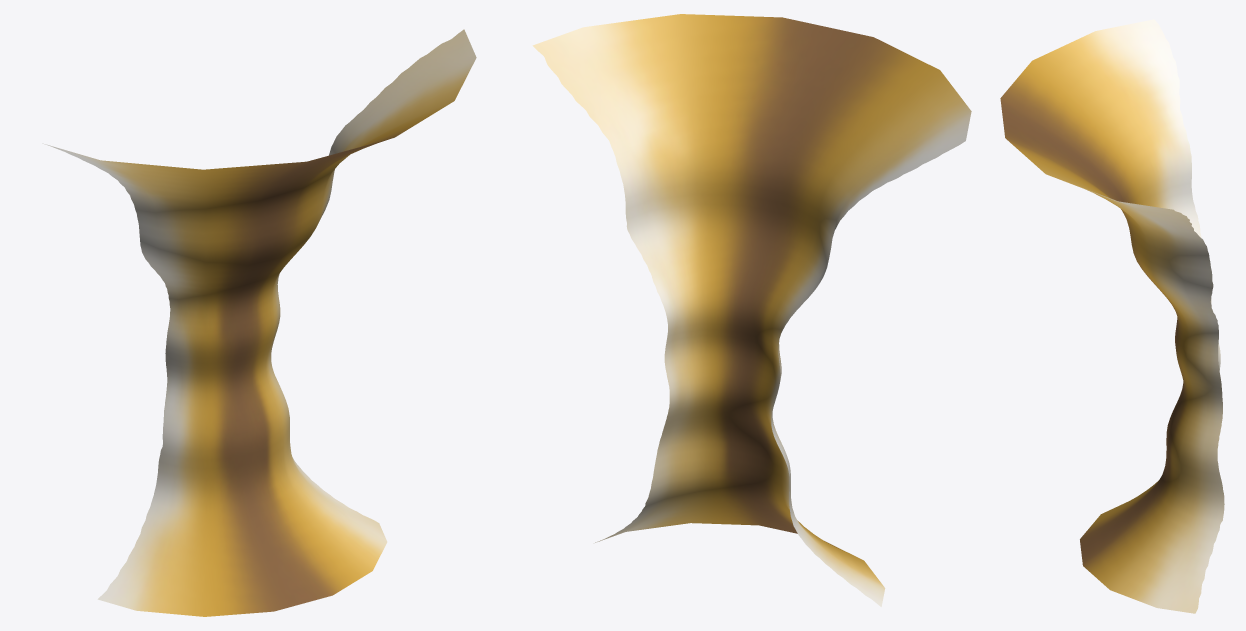
File: longjf_plane01.FBX
3 renders of one model, left to right at view 1: azimuth 30°, elevation 25°; view 2: azimuth 150°, elevation 25°; view 3: azimuth 270°, elevation 25°, orthographic. The views are drawn at different scales.
Visible parts, largest first — view 1: longjf_plane01; view 2: longjf_plane01; view 3: longjf_plane01.
Part boxes in pixels (box(x1,y1,x2,y2)): longjf_plane01: box(42, 29, 476, 616); longjf_plane01: box(532, 14, 971, 606); longjf_plane01: box(1000, 19, 1224, 613).
Bounding box in the file's own units: 174 × 177 × 85.03.
